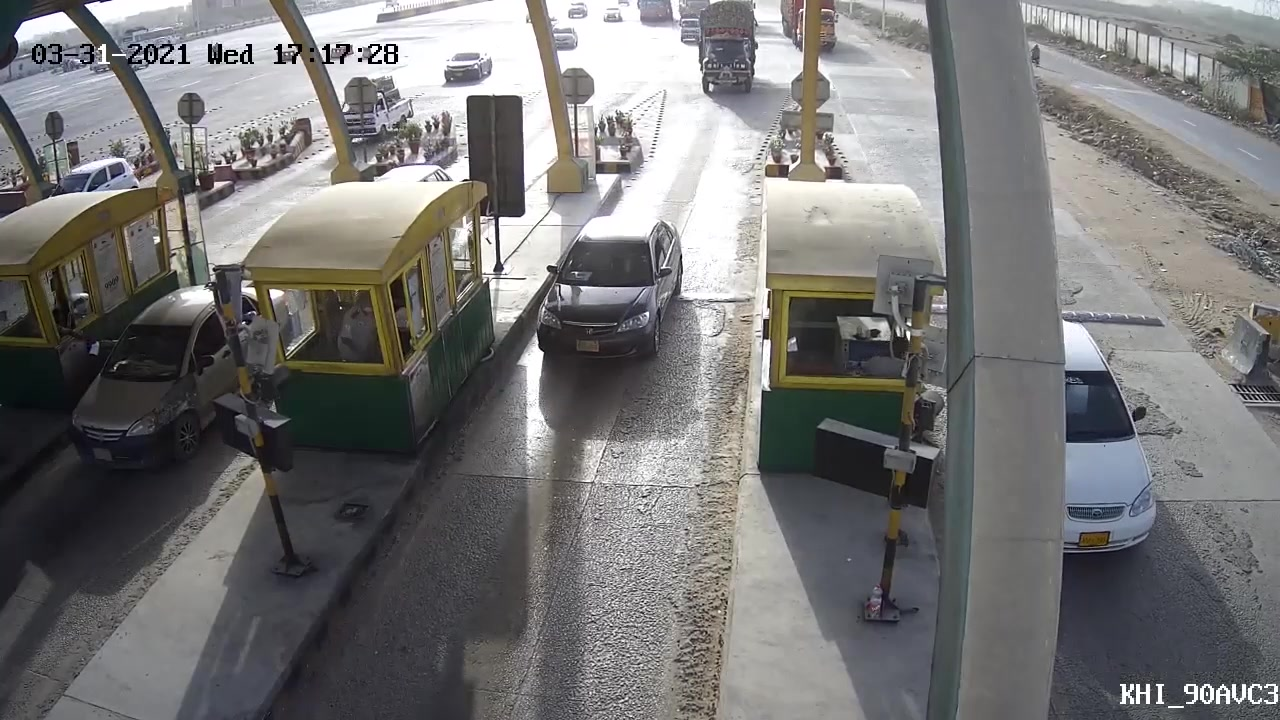F1: (516, 211, 696, 359)
